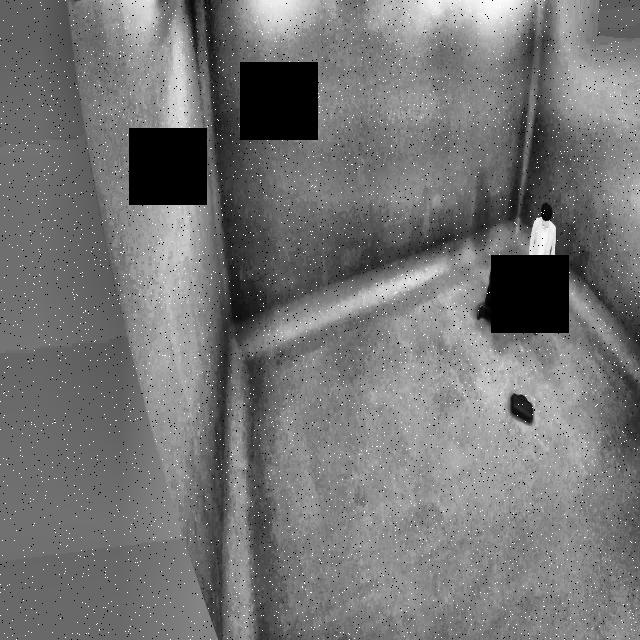assult: (472, 193, 566, 340)
